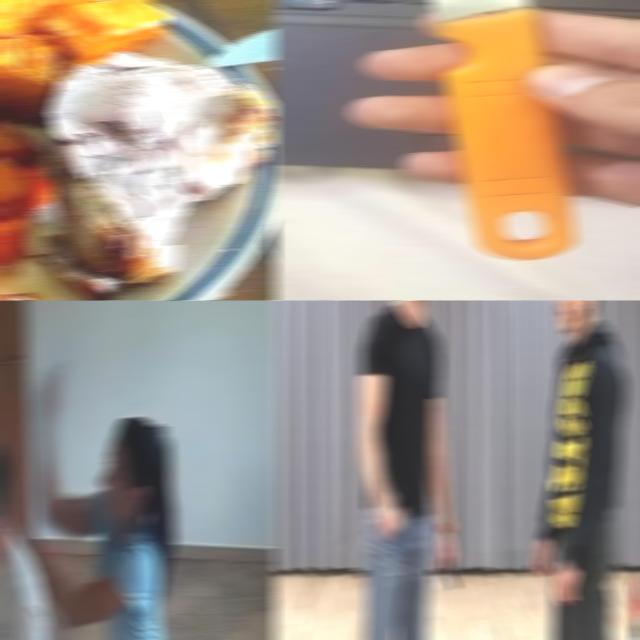Knife: (429, 0, 576, 259)
Knife_Handle: (30, 360, 72, 404), (436, 518, 460, 589)
